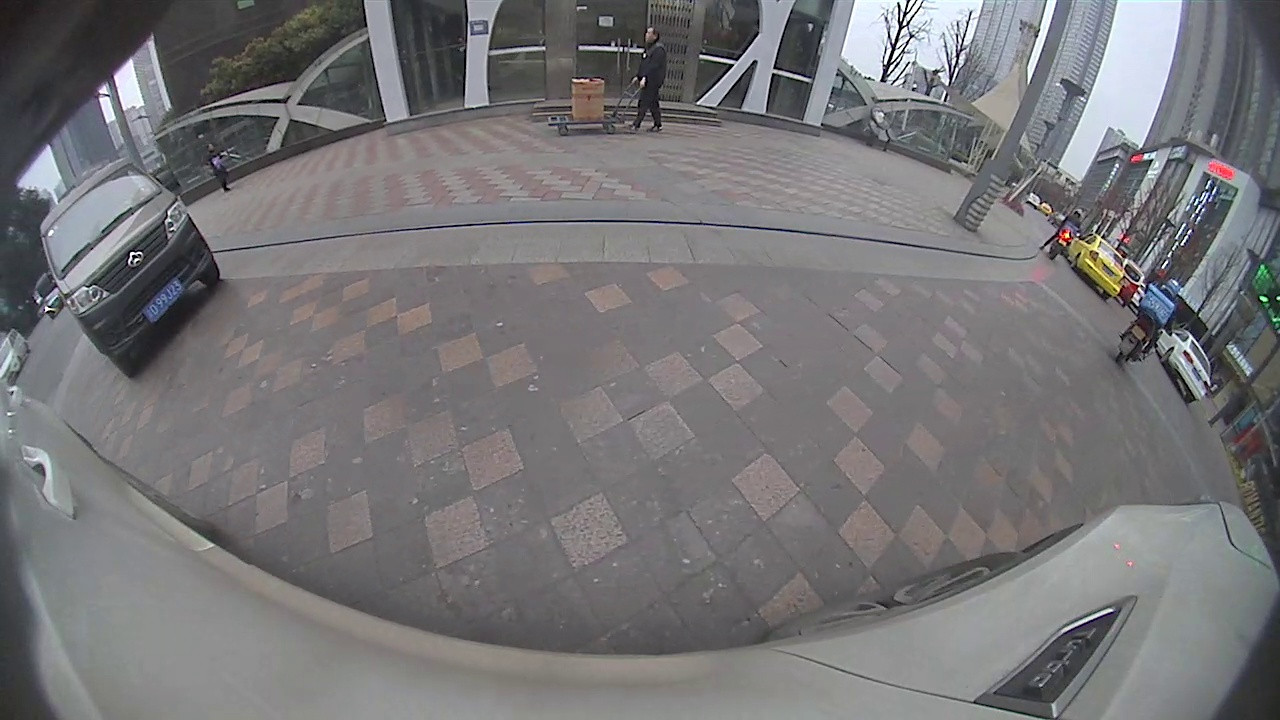car: (38, 157, 220, 379), (1155, 326, 1213, 404), (1066, 230, 1126, 297)
person: (629, 24, 667, 134)
rider: (1110, 276, 1181, 365), (1039, 206, 1085, 260)
